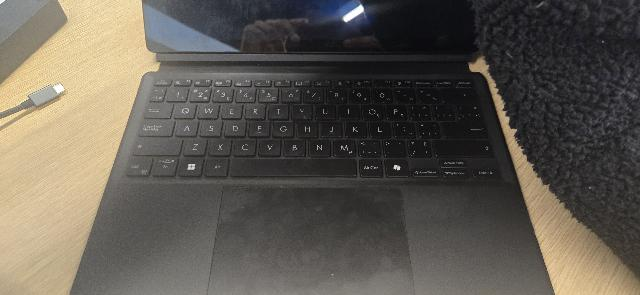Keyboard: (127, 79, 499, 178)
